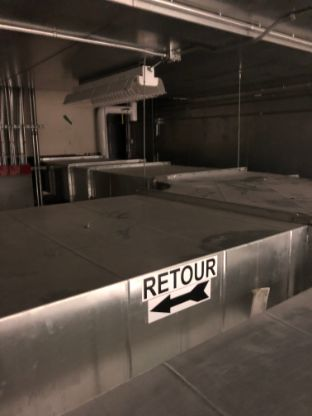Duct: (1, 151, 312, 416)
